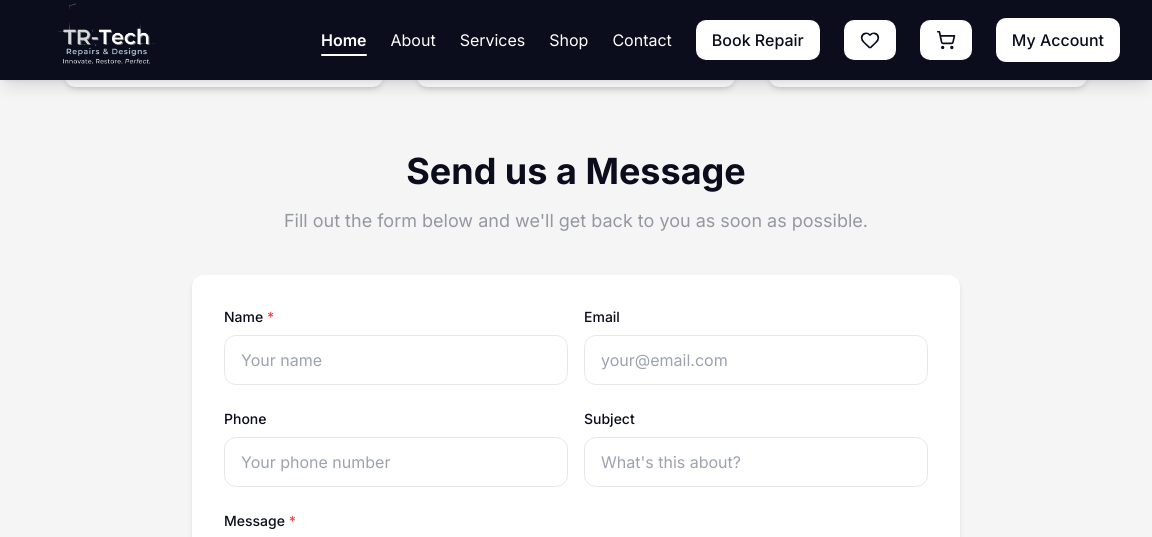
Test: ContactPage › shows inline validation error for invalid email
The image size is (1152, 537).
(page scrolled)
// Enter an invalid email and blur to trigger validation
In the field with test id "contact-email": coordinates (756, 360) [584, 335, 928, 385], type "invalid-email"
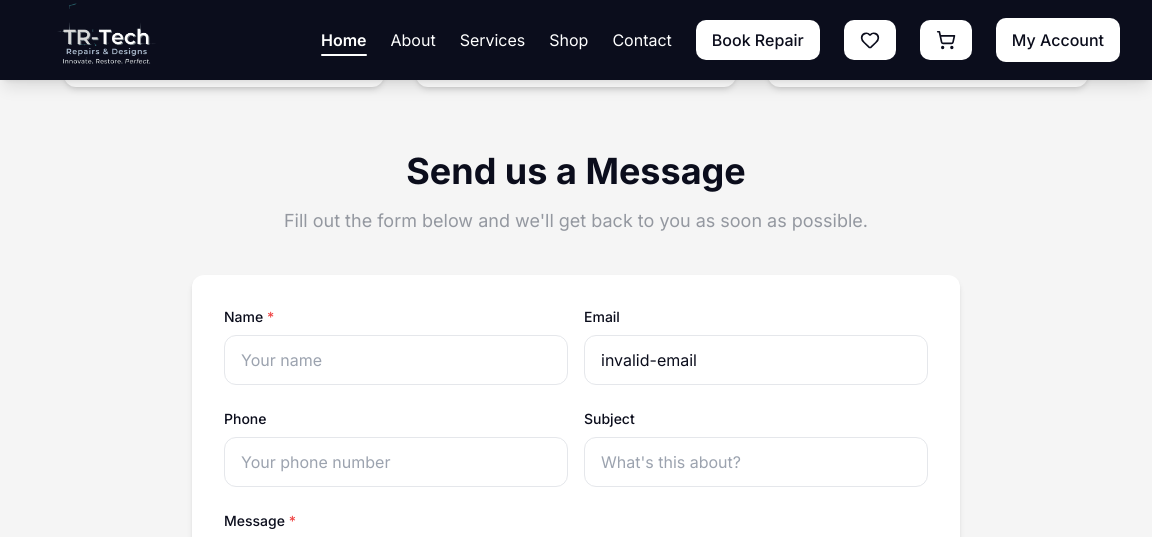
Leave the field with test id "contact-email", box [584, 335, 928, 385]
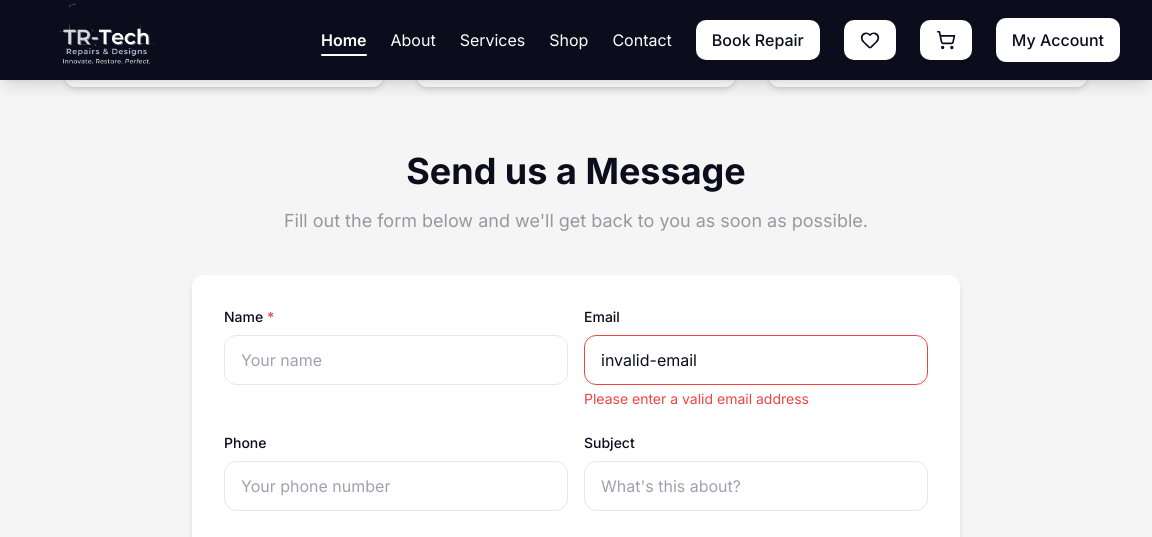
Expected: the text "Please enter a valid email address" is shown, [584, 390, 809, 407]
